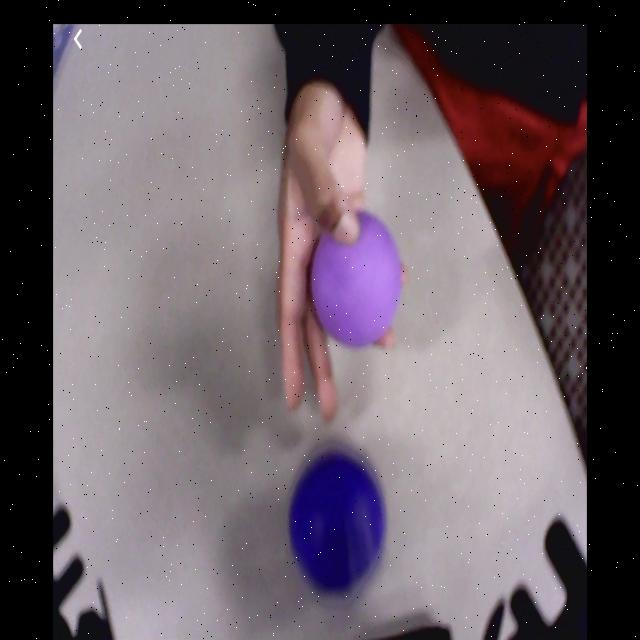ball: (289, 445, 387, 597), (314, 213, 402, 347)
